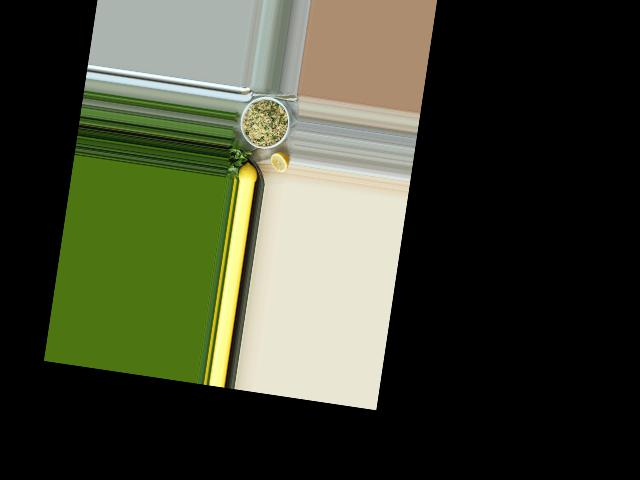lemon: (238, 162, 256, 182)
